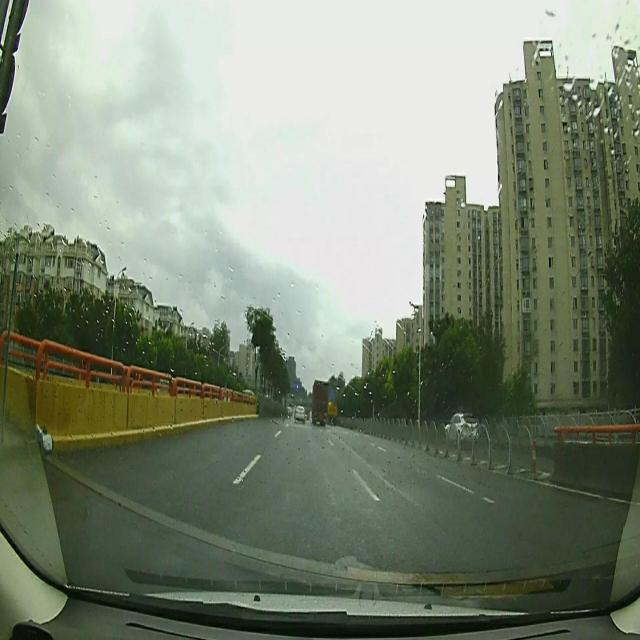car: (444, 412, 476, 447), (310, 380, 327, 430), (294, 404, 304, 419)
